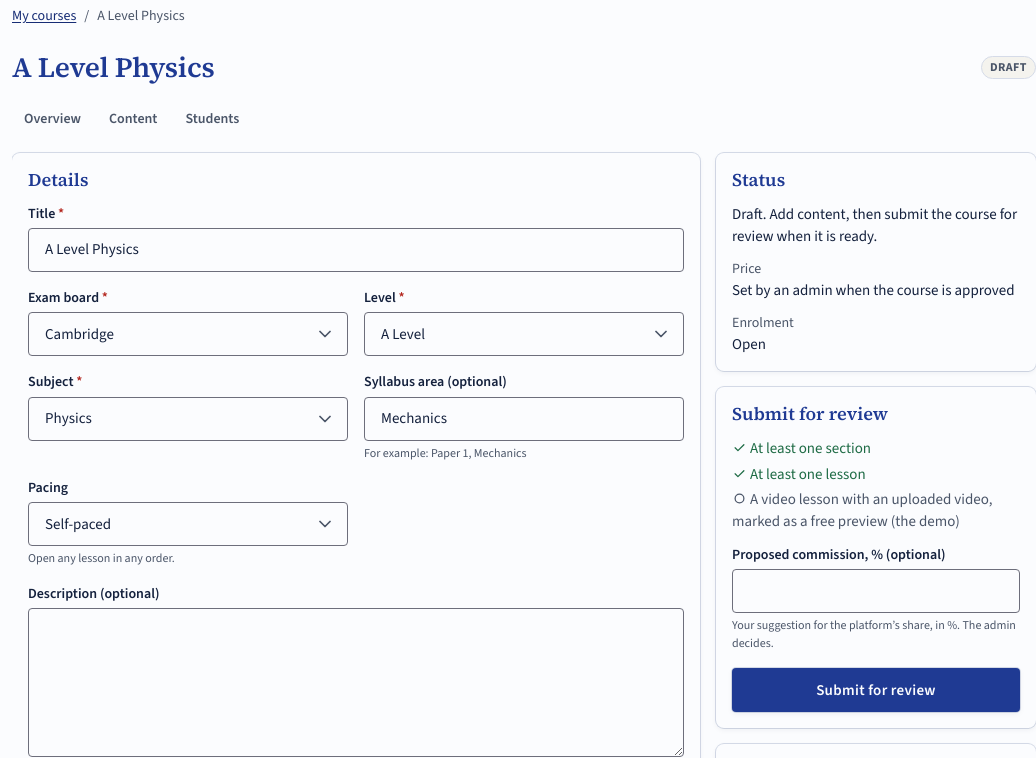
Test case: CourseOverview › submits for review and shows the server’s checklist errors
The width and height of the screenshot is (1036, 758).
Type "17.5" into the field labelled "Proposed commission, % (optional)" at (876, 591), box x1=732 y1=569 x2=1020 y2=613
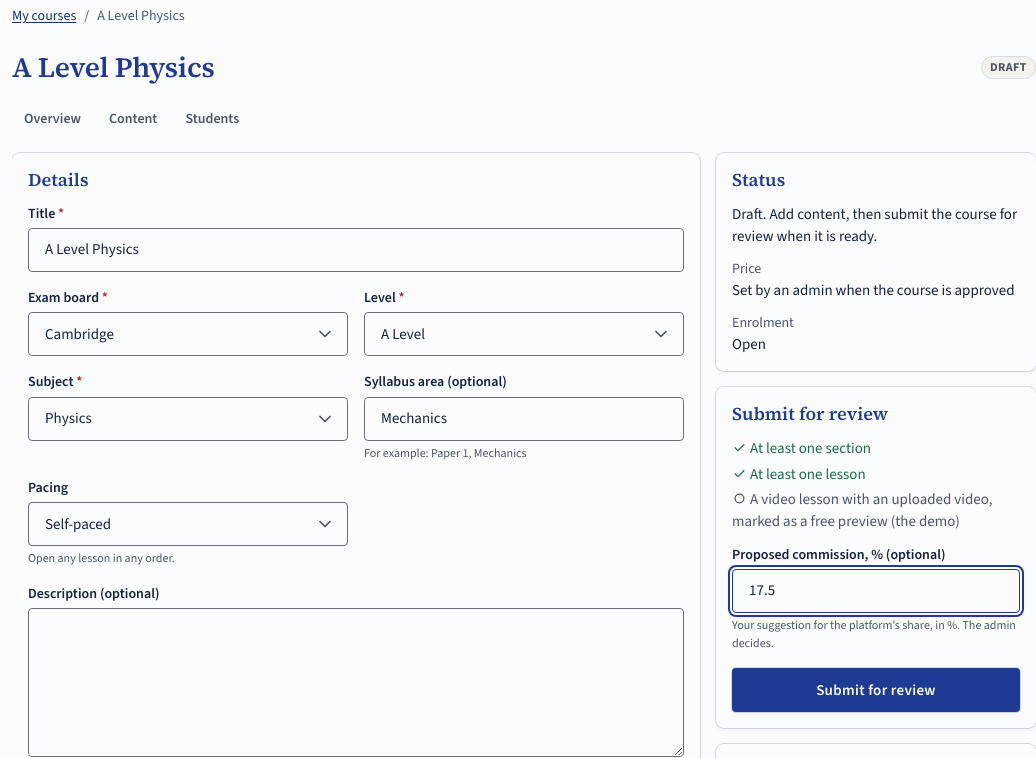
Click the button "Submit for review" at (876, 690), box x1=732 y1=668 x2=1020 y2=712
(page scrolled)
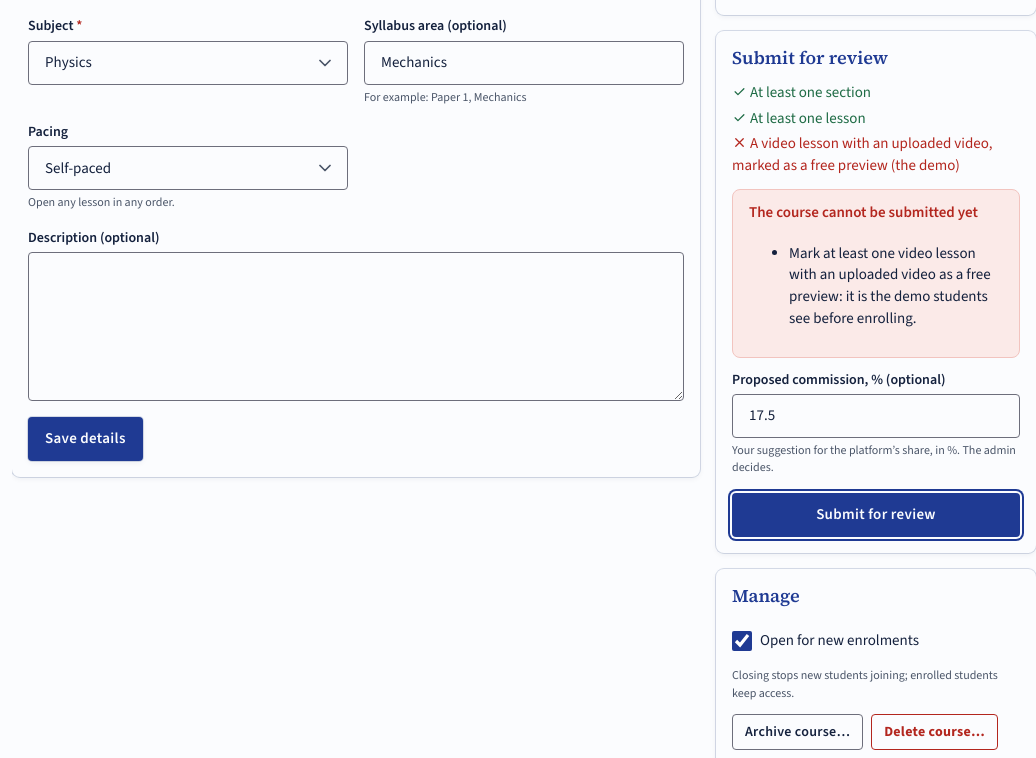
Check: the text "The course cannot be submitted yet" is shown, box x1=749 y1=202 x2=1003 y2=224
Click the button "Submit for review" at (876, 515), box x1=732 y1=493 x2=1020 y2=537
(page scrolled)
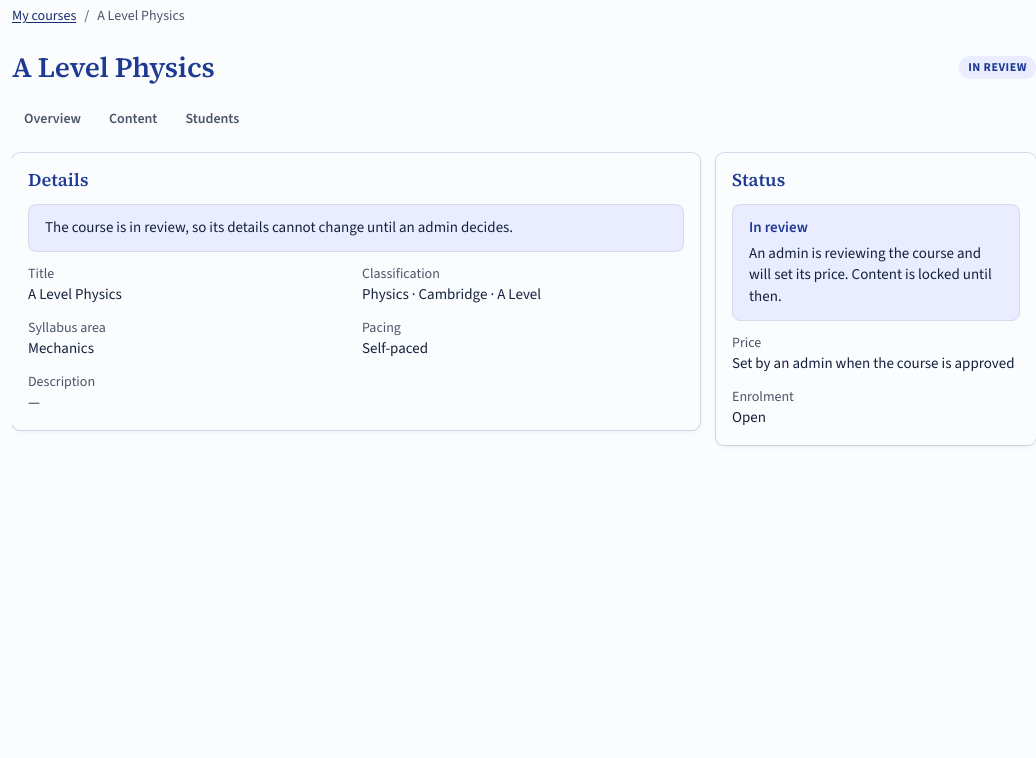
Check: the 1st text "In review" is shown, box x1=959 y1=56 x2=1035 y2=79
